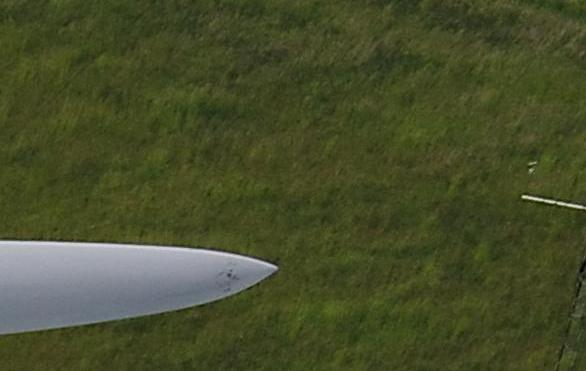damage: (214, 258, 241, 292)
